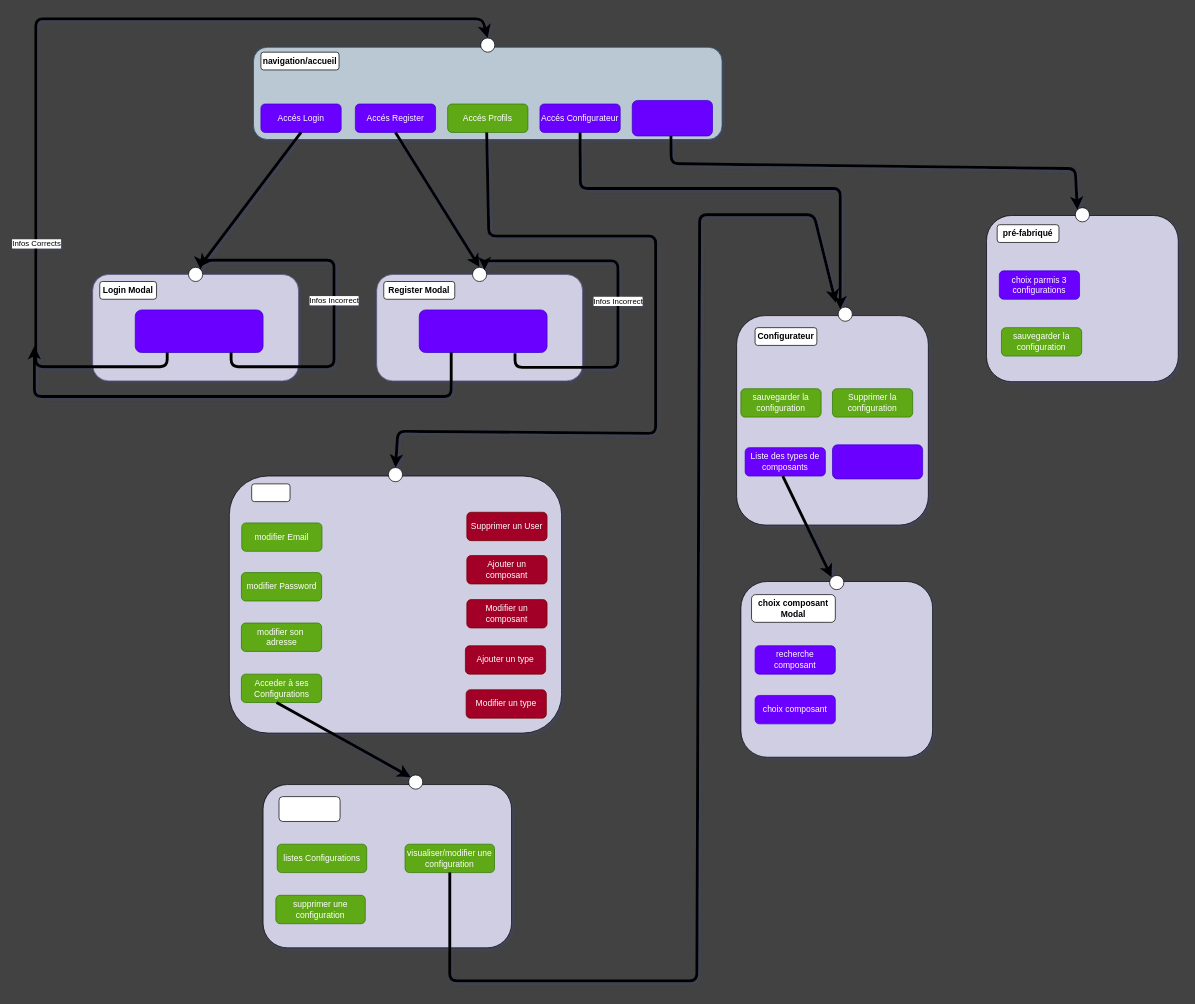
This 1195x1004 diagram has some shape labels left out. Here are the shapes that lost their labels. From the top down, the box of each, then its label:
(632, 100, 712, 136): Accés Configurations pré-determinées
(135, 309, 263, 353): Le User fournit ses informations de connexion
(419, 309, 547, 353): Le Visiteur fournit ses informations
(832, 444, 923, 479): resumé de la configuration avec prix total
(251, 483, 290, 502): Profil
(278, 796, 340, 821): Configs sauvegardées
